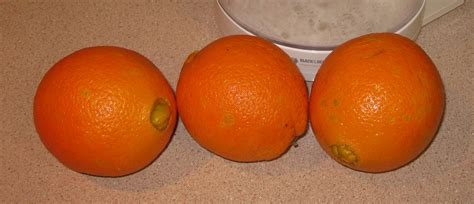orange: (28, 45, 180, 181), (308, 30, 449, 176), (174, 34, 316, 166)
